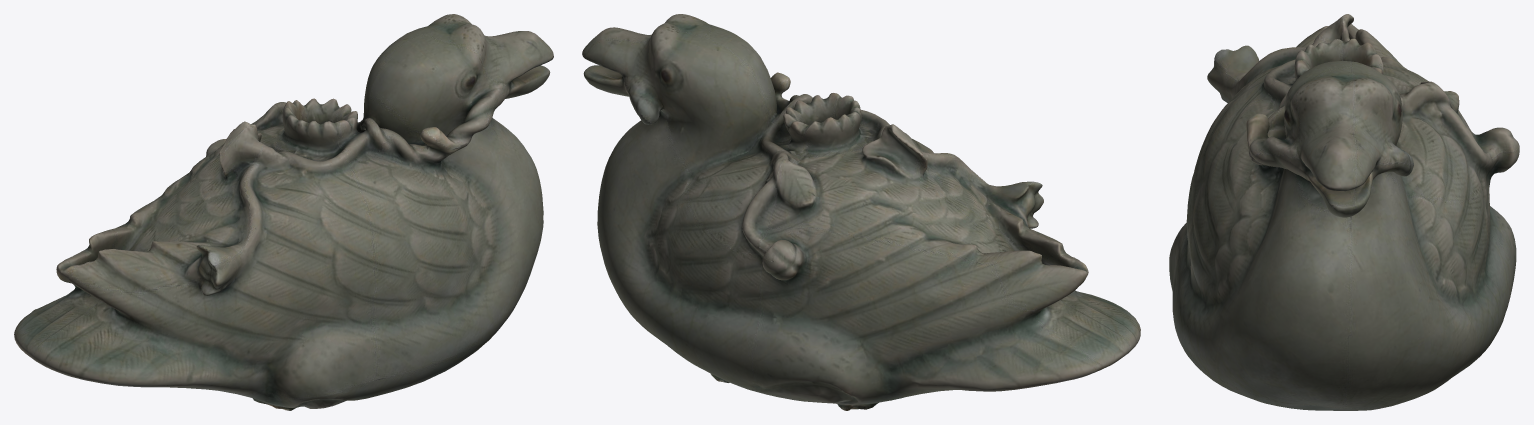
File: observation-3.glb
3 renders of one model, left to right at view 1: azimuth 30°, elevation 25°; view 2: azimuth 150°, elevation 25°; view 3: azimuth 270°, elevation 25°, orthographic. The views are drawn at different scales.
Parts seen in each view (by area): view 1: duk000648-000-30000; view 2: duk000648-000-30000; view 3: duk000648-000-30000.
Part boxes in pixels (bbox=[...]): duk000648-000-30000: bbox=[14, 14, 553, 410]; duk000648-000-30000: bbox=[582, 14, 1140, 410]; duk000648-000-30000: bbox=[1169, 14, 1519, 410].
Size of the model in its own units: 131 by 74.24 by 65.02.
1 material, 1 textured.
